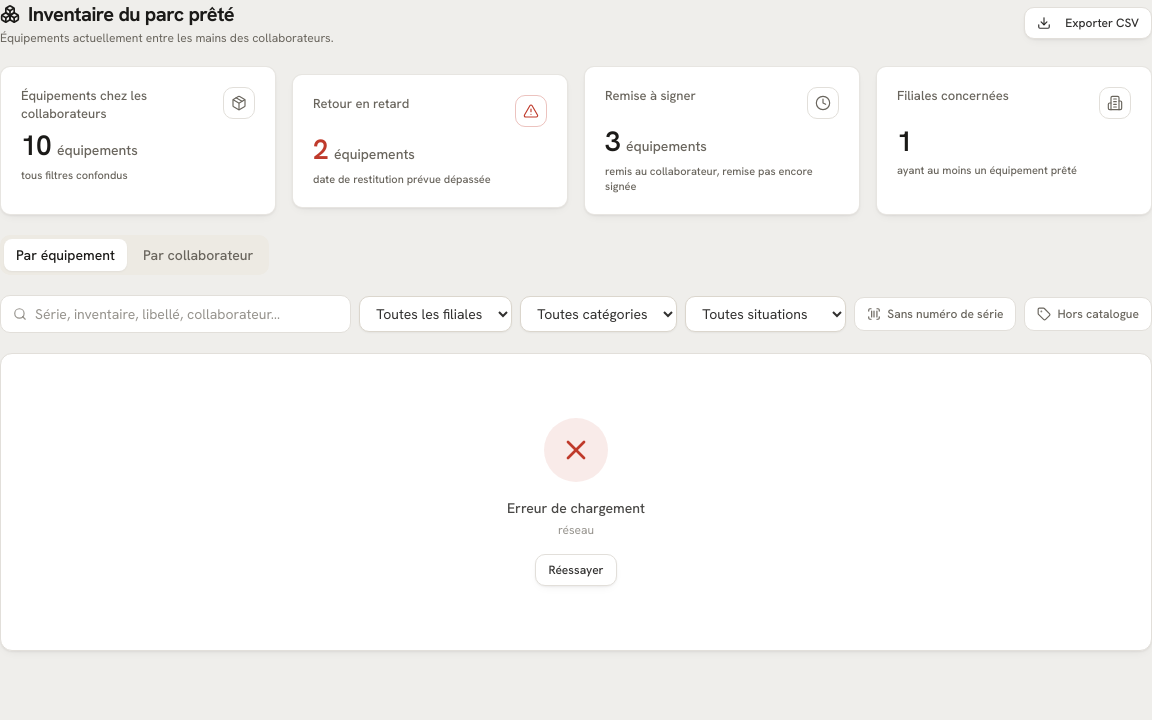
InventairePage › liste en échec : le nombre est dit inconnu, l’export reste possible (pas de faux « 0 »)
expect the text "réseau" is shown: met, box [558,522,594,538]
Click the button "Exporter CSV": {"x": 1088, "y": 23} [1024,7,1151,39]
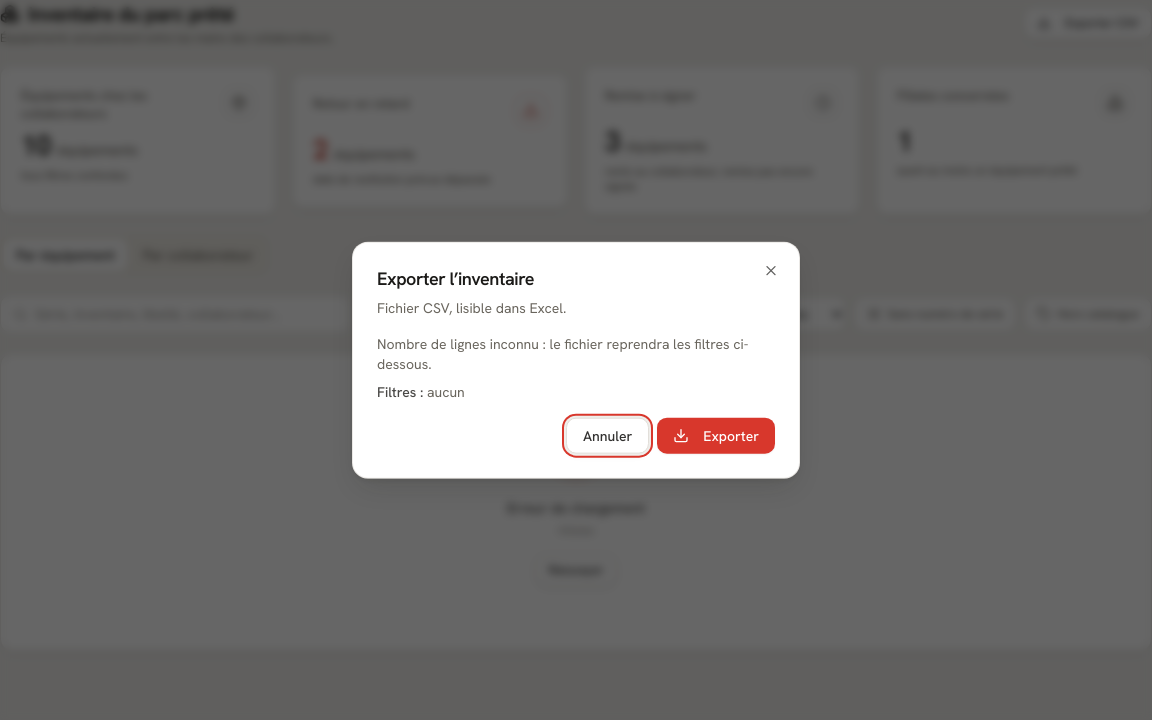
expect the dialog does not show "rien à exporter": met, box [352,242,800,478]
expect the dialog shows "Nombre de lignes inconnu": met, box [377,334,748,372]
expect the button "Exporter" is enabled: met, box [657,417,775,453]
